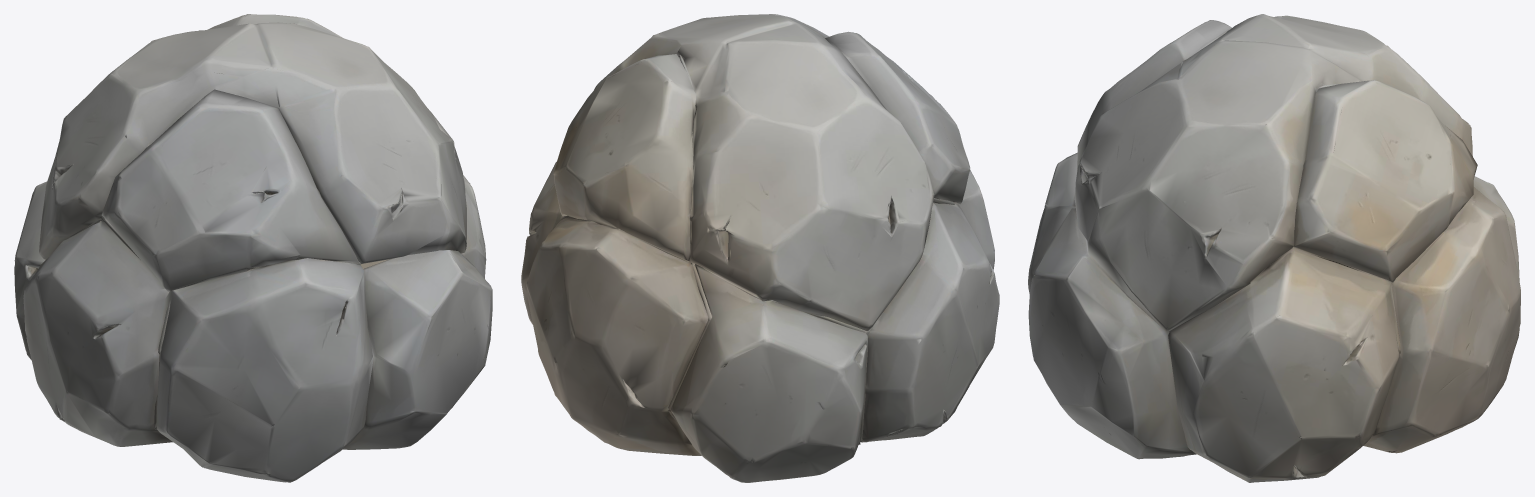
The model's file is e7c017da-f3e3-4b0d-bae1-7765256a0c6d_model.glb.
3 views of the same model, side by side, from view 1: azimuth 30°, elevation 25°; view 2: azimuth 150°, elevation 25°; view 3: azimuth 270°, elevation 25° (orthographic).
Visible parts, largest first — view 1: tripo_node_e7c017da-f3e3-4b0d-bae1-7765256a0c6d; view 2: tripo_node_e7c017da-f3e3-4b0d-bae1-7765256a0c6d; view 3: tripo_node_e7c017da-f3e3-4b0d-bae1-7765256a0c6d.
Boxes of the visible parts, bbox=[...] form: tripo_node_e7c017da-f3e3-4b0d-bae1-7765256a0c6d: bbox=[14, 14, 492, 482]; tripo_node_e7c017da-f3e3-4b0d-bae1-7765256a0c6d: bbox=[521, 14, 999, 482]; tripo_node_e7c017da-f3e3-4b0d-bae1-7765256a0c6d: bbox=[1028, 14, 1520, 482].
Bounding box in the file's own units: 0.6002 × 0.5 × 0.6079.
1 material, 1 textured.
